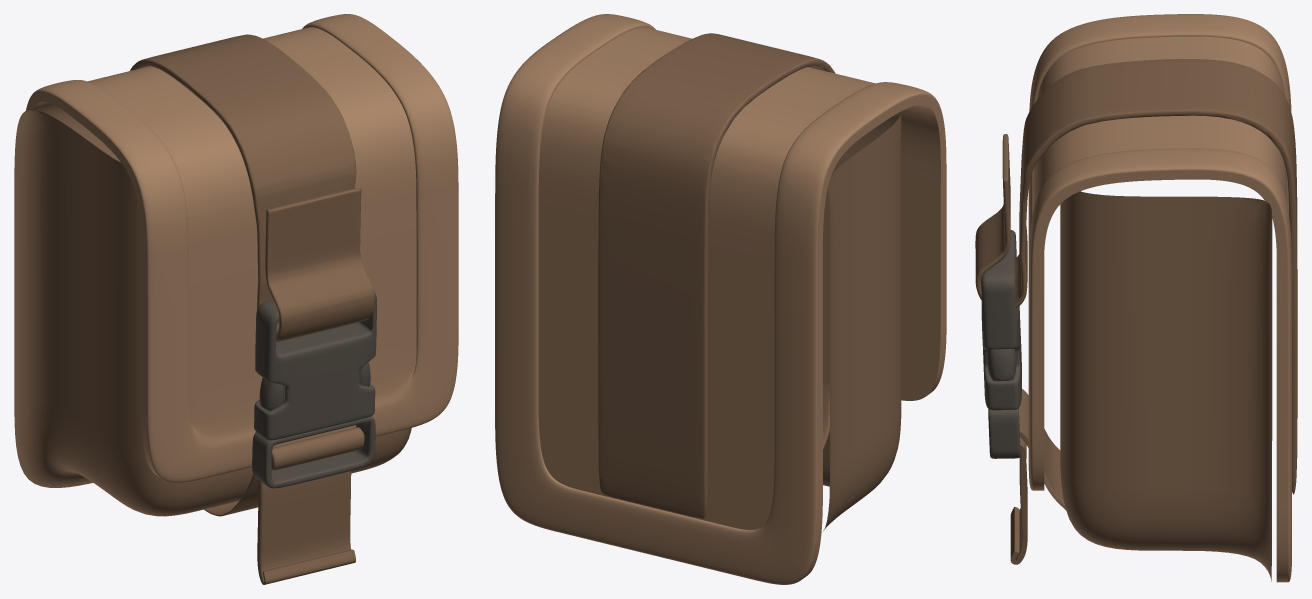
3 views of the same model, side by side, from view 1: azimuth 30°, elevation 25°; view 2: azimuth 150°, elevation 25°; view 3: azimuth 270°, elevation 25° (orthographic). The views are drawn at different scales.
Visible parts, largest first — view 1: huelle, seiten, riemen_o, riemen_u, schnalle_o, schnalle_u; view 2: huelle, riemen_o, seiten, riemen_u; view 3: seiten, huelle, riemen_o, schnalle_o, riemen_u, schnalle_u.
Part boxes in pixels (x1=…): huelle: x1=26, y1=14, x2=458, y2=482; seiten: x1=14, y1=109, x2=411, y2=516; riemen_o: x1=130, y1=34, x2=374, y2=341; riemen_u: x1=204, y1=427, x2=364, y2=584; schnalle_o: x1=254, y1=292, x2=376, y2=440; schnalle_u: x1=252, y1=362, x2=375, y2=488; huelle: x1=495, y1=14, x2=946, y2=584; riemen_o: x1=598, y1=33, x2=835, y2=518; seiten: x1=823, y1=113, x2=901, y2=530; riemen_u: x1=823, y1=382, x2=829, y2=486; seiten: x1=1060, y1=191, x2=1272, y2=581; huelle: x1=1028, y1=14, x2=1291, y2=582; riemen_o: x1=975, y1=59, x2=1297, y2=494; schnalle_o: x1=981, y1=230, x2=1021, y2=410; riemen_u: x1=1010, y1=389, x2=1066, y2=564; schnalle_u: x1=987, y1=348, x2=1020, y2=458.
Size of the model in its own units: 0.1351 by 0.17 by 0.1079.
